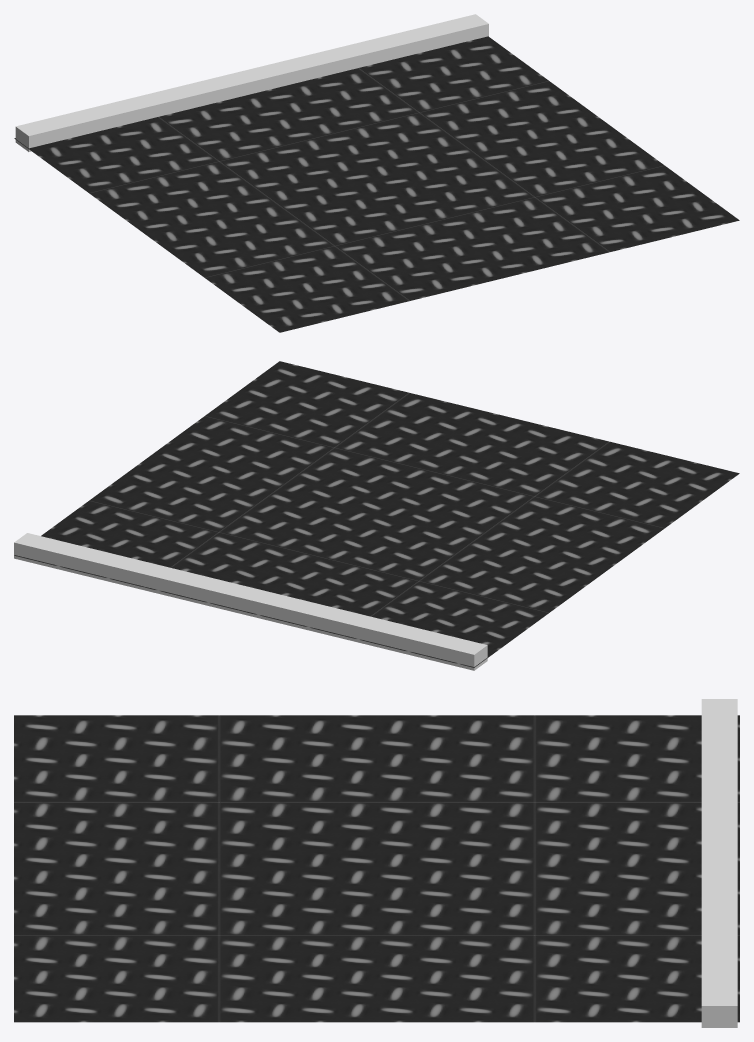
The model's file is GratedFloor3.fbx.
3 views of the same model, one above another, from view 1: azimuth 30°, elevation 25°; view 2: azimuth 150°, elevation 25°; view 3: azimuth 270°, elevation 25° (orthographic). The views are drawn at different scales.
Parts seen in each view (by area): view 1: wall_big_no_side_full_LOD1.004; view 2: wall_big_no_side_full_LOD1.004; view 3: wall_big_no_side_full_LOD1.004.
Part boxes in pixels (box(x1,y1,x2,y2)): wall_big_no_side_full_LOD1.004: box(14, 14, 739, 332); wall_big_no_side_full_LOD1.004: box(14, 361, 739, 670); wall_big_no_side_full_LOD1.004: box(14, 699, 739, 1027).
Size of the model in its own units: 4006 by 133 by 4000.
